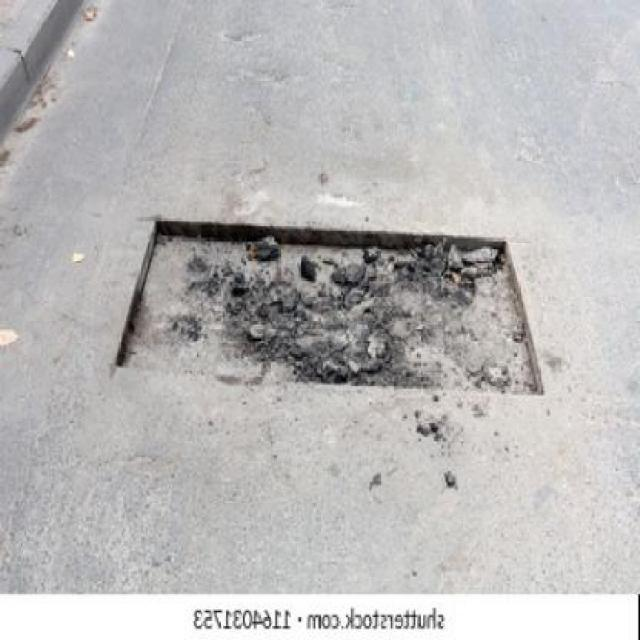Pothole: (109, 212, 553, 397)
